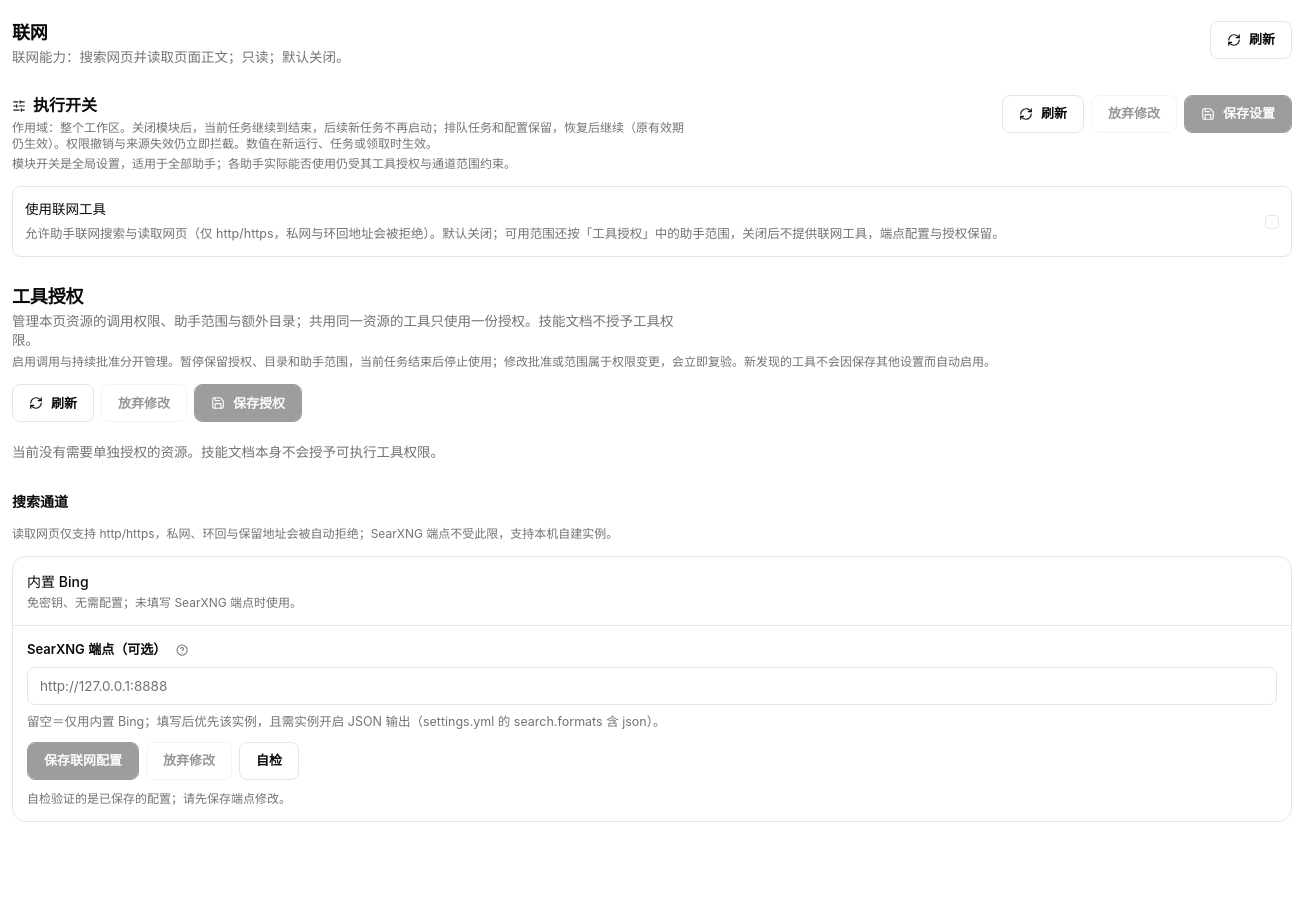
Test: web access panel guards › shows the self-test failure detail
What coordinates should you click on to do the following:
click the button "自检"
I would click on:
 (269, 761)
Its box is [239,742,299,780].
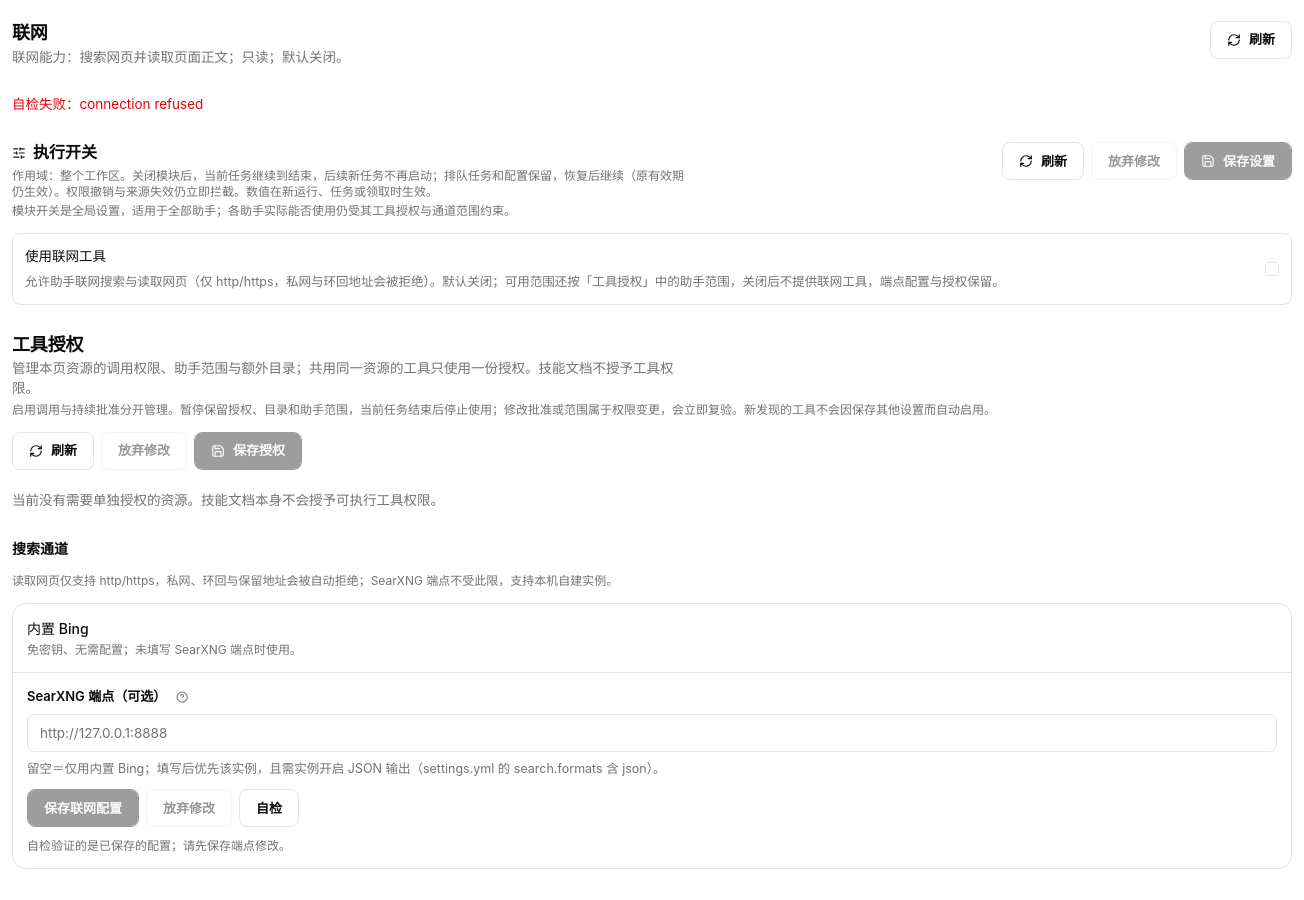
Check: the text "connection refused" is shown, box [12,96,203,112]
